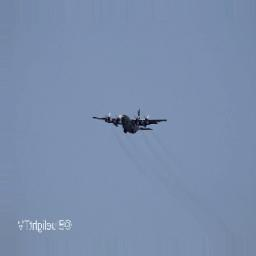Airplane: (92, 107, 168, 138)
